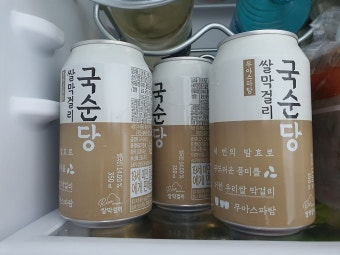paper: (209, 36, 321, 236), (58, 39, 155, 230), (149, 57, 219, 216)
